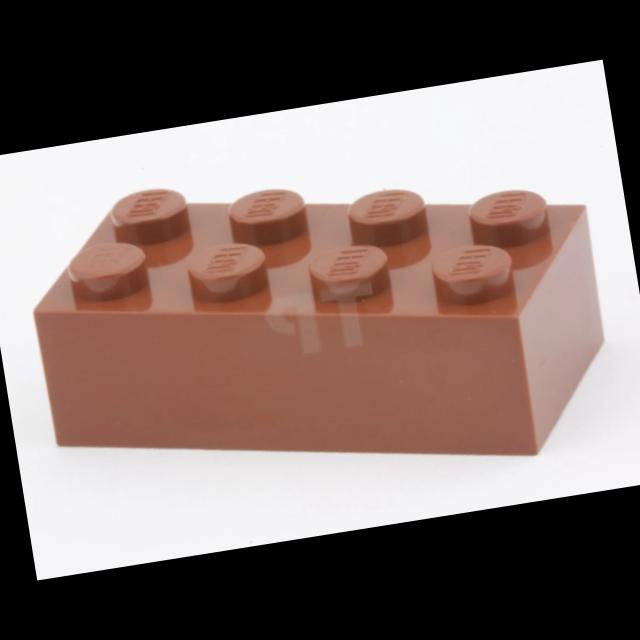2x4: (35, 189, 603, 455)
